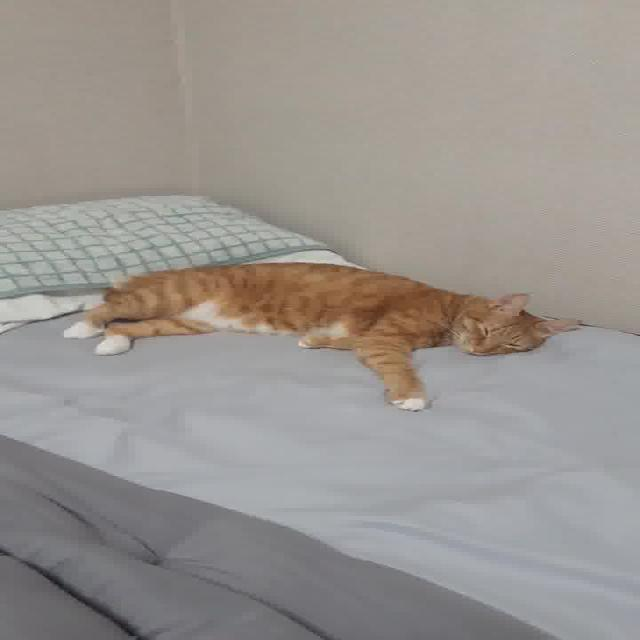cat: (6, 246, 610, 426)
